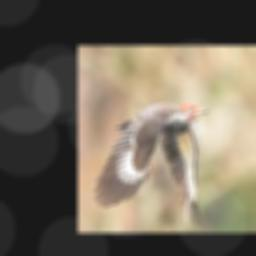Woodpecker: (93, 103, 208, 224)
